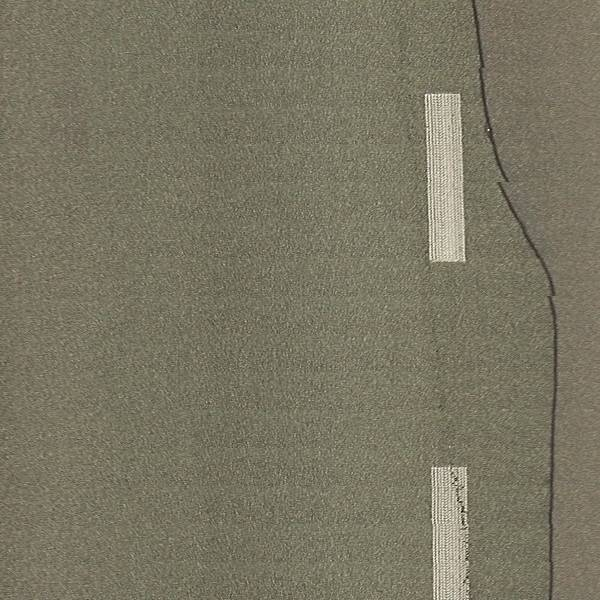road_damage: (478, 45, 565, 600)
